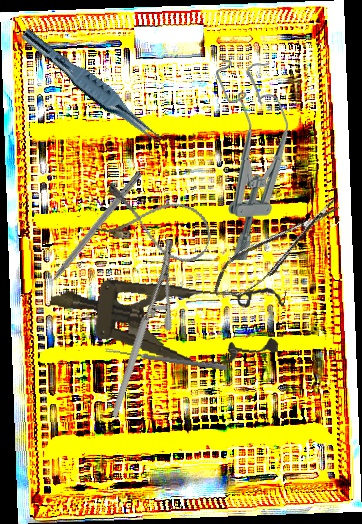Cannula: (94, 180, 218, 268)
Hook Surgical: (36, 169, 144, 298)
Micro Scissor: (203, 191, 350, 308)
Needle Holder: (60, 237, 223, 419)
Speculum: (44, 254, 287, 378), (215, 58, 291, 261)
Surgical Spoon: (104, 347, 228, 371)
Tissue Forceps: (14, 27, 169, 148)
